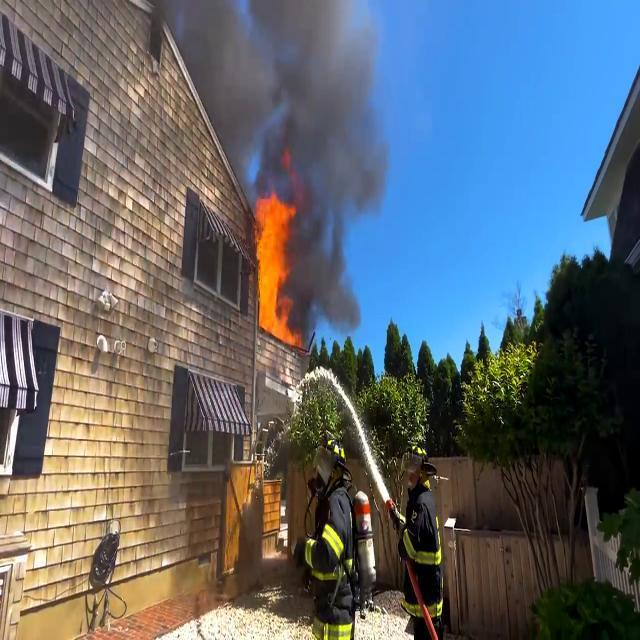Fire: (256, 192, 296, 342)
Smoke: (184, 0, 398, 191), (293, 176, 370, 346)
